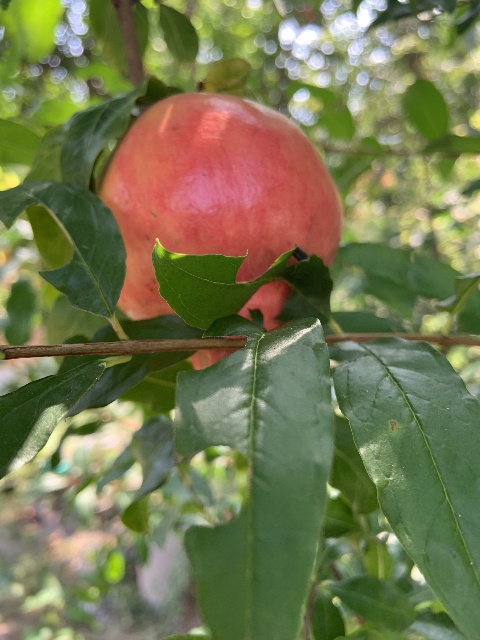ripe: (95, 91, 343, 368)
